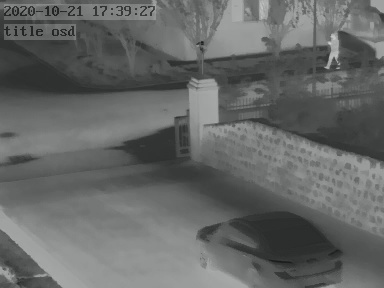person: (328, 30, 342, 69)
vehicle: (190, 207, 347, 288)
